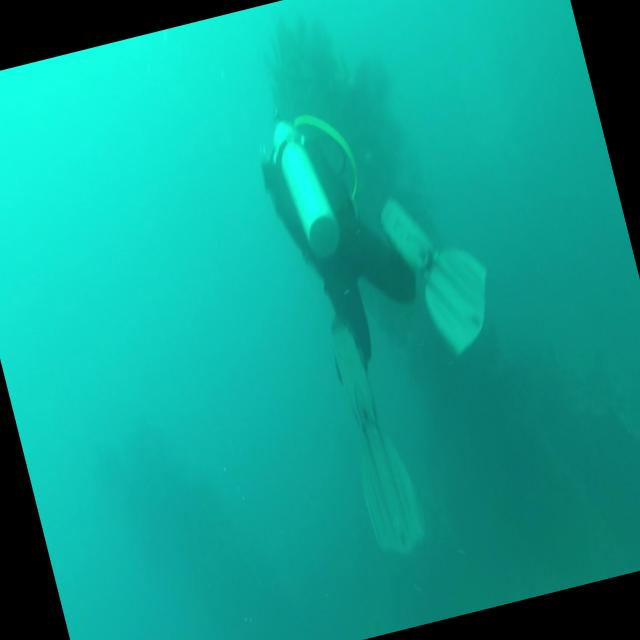human: (223, 0, 546, 567)
